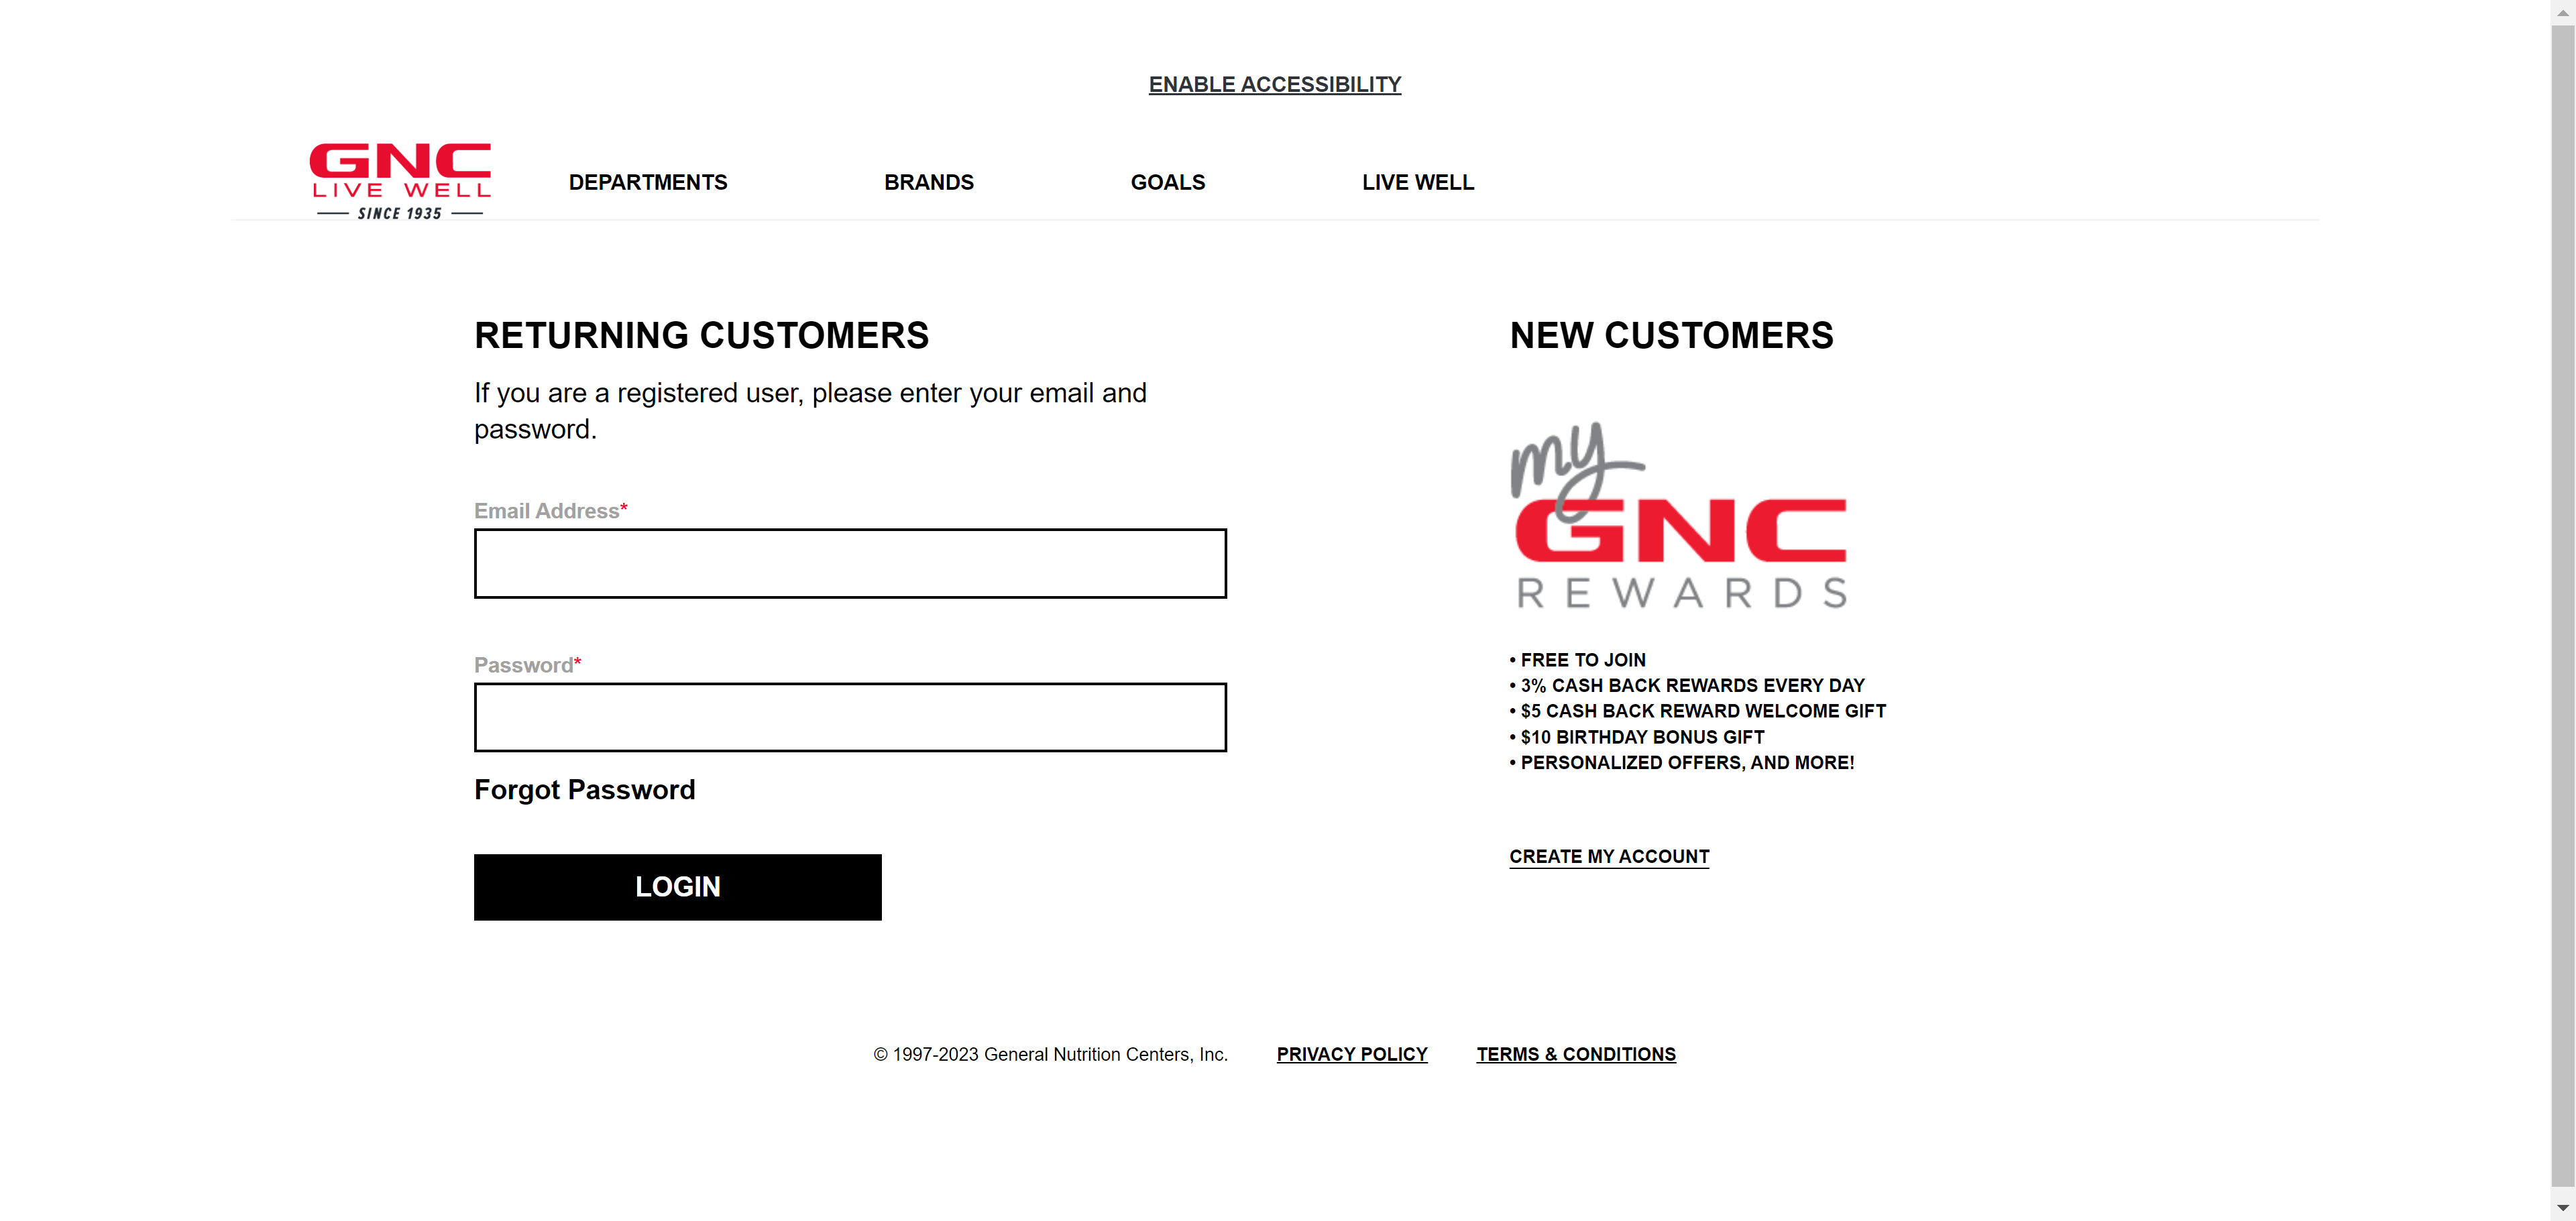login_button: (475, 855, 882, 920)
login_form: (465, 495, 1235, 928)
